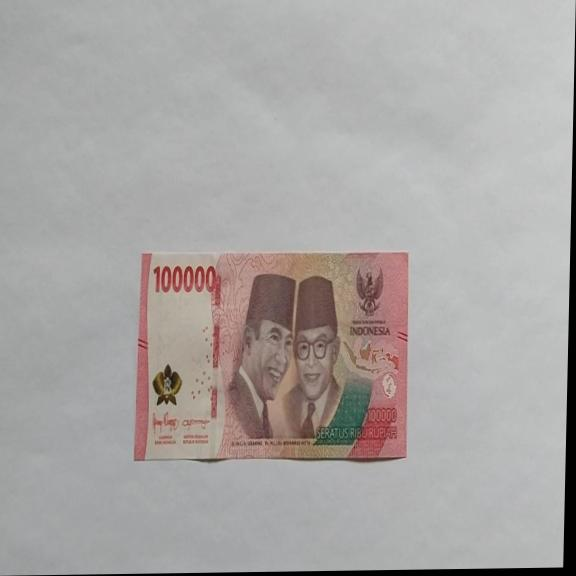Kertas: (134, 246, 411, 464), (151, 261, 217, 296)
